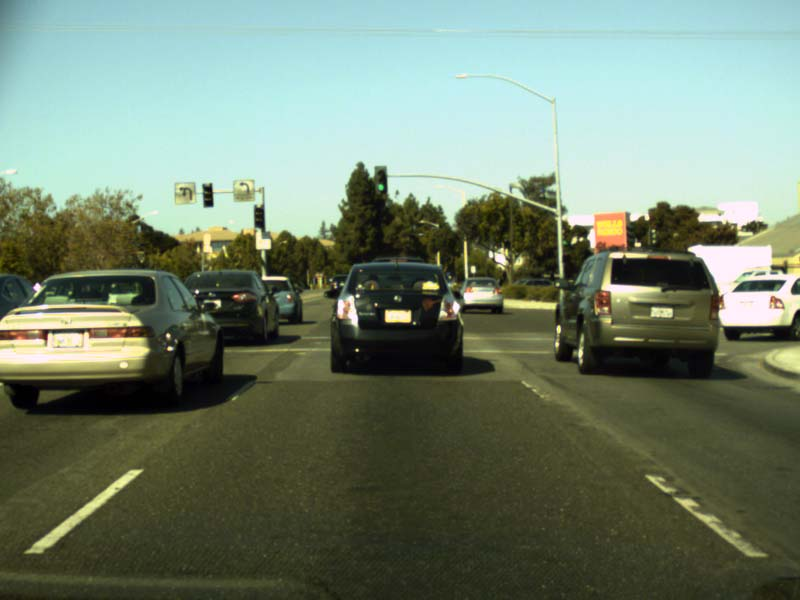Green: (376, 170, 386, 193), (560, 234, 568, 246)
